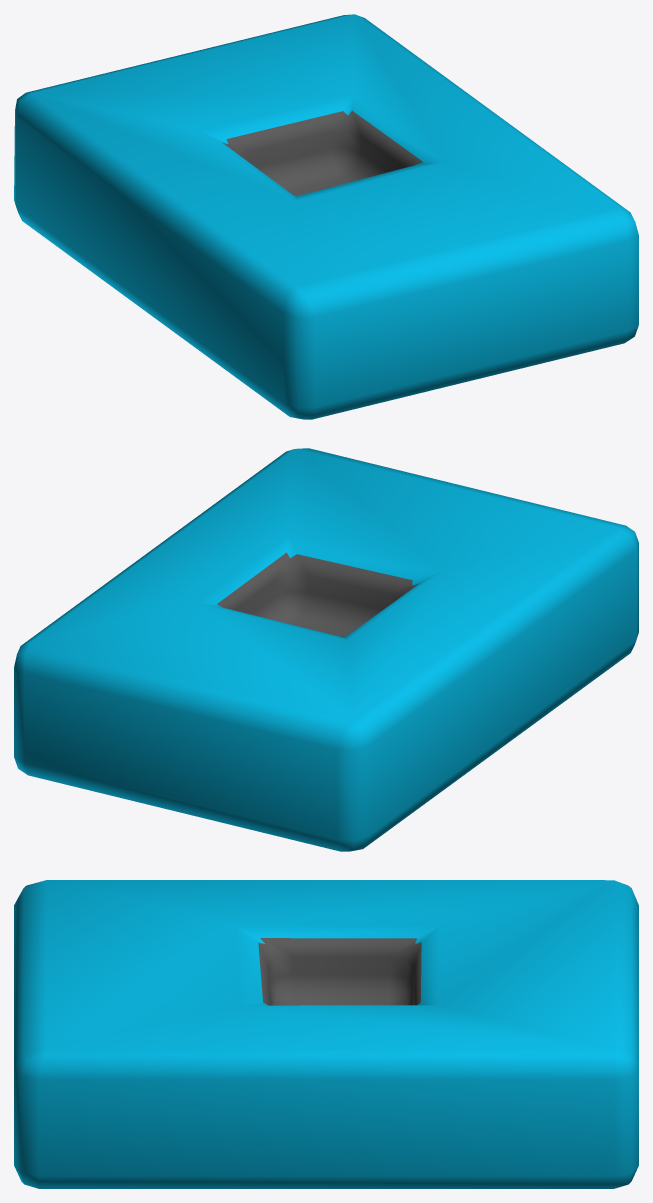
The model's file is stop.glb.
3 views of the same model, one above another, from view 1: azimuth 30°, elevation 25°; view 2: azimuth 150°, elevation 25°; view 3: azimuth 270°, elevation 25° (orthographic). The views are drawn at different scales.
Parts seen in each view (by area): view 1: Cube; view 2: Cube; view 3: Cube.
Boxes of the visible parts, x1,y1,x2,y2 form: Cube: [14, 14, 638, 419]; Cube: [14, 448, 638, 851]; Cube: [14, 880, 638, 1188].
Bounding box in the file's own units: 0.35 × 0.125 × 0.5.
